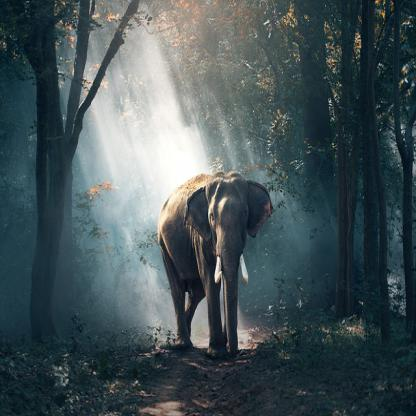elephant: (160, 167, 271, 361)
